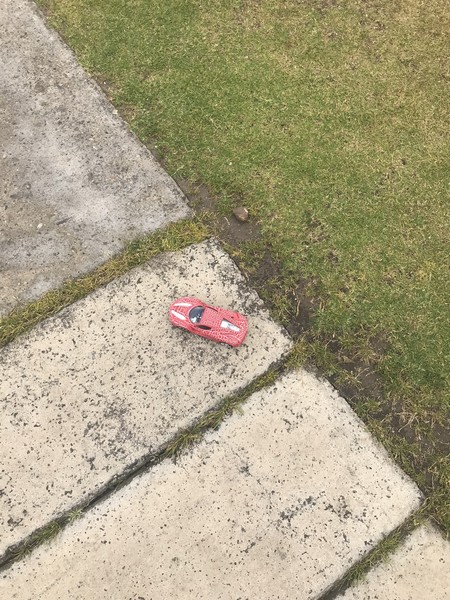RC: (166, 296, 247, 349)
